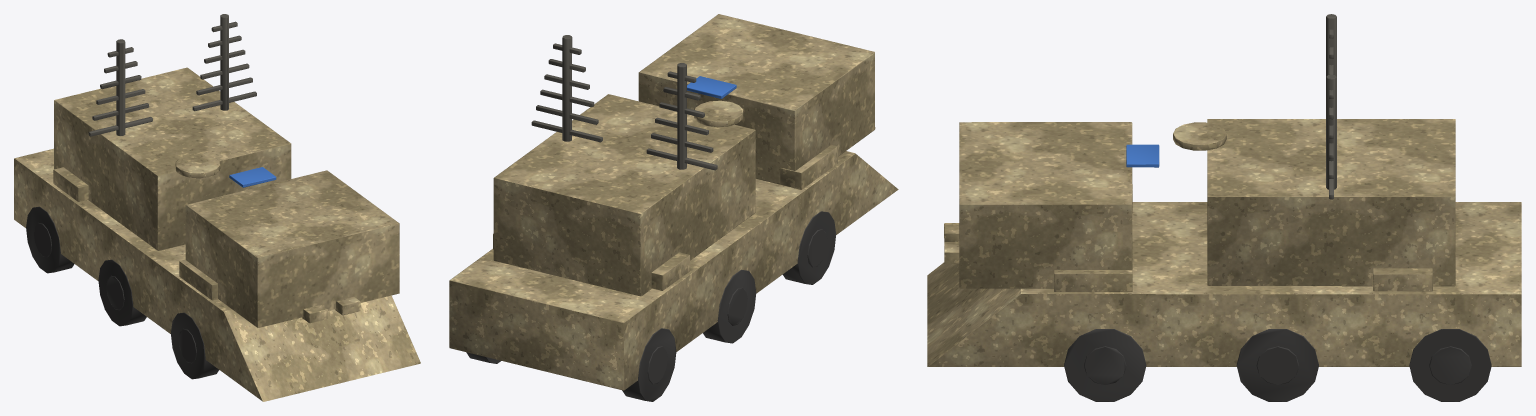
Rendered from ewj_e4_us_jammer_LOD1.glb.
3 views of the same model, side by side, from view 1: azimuth 30°, elevation 25°; view 2: azimuth 150°, elevation 25°; view 3: azimuth 270°, elevation 25° (orthographic). The views are drawn at different scales.
Parts seen in each view (by area): view 1: ewj_e4_us_jammer_LOD1_body, ewj_e4_us_jammer_LOD1_track, ewj_e4_us_jammer_LOD1_deck, ewj_e4_us_jammer_LOD1_team; view 2: ewj_e4_us_jammer_LOD1_body, ewj_e4_us_jammer_LOD1_track, ewj_e4_us_jammer_LOD1_deck, ewj_e4_us_jammer_LOD1_team; view 3: ewj_e4_us_jammer_LOD1_body, ewj_e4_us_jammer_LOD1_track, ewj_e4_us_jammer_LOD1_deck, ewj_e4_us_jammer_LOD1_team.
Part boxes in pixels (x1=…): ewj_e4_us_jammer_LOD1_body: x1=14, y1=67, x2=420, y2=401; ewj_e4_us_jammer_LOD1_track: x1=26, y1=206, x2=218, y2=379; ewj_e4_us_jammer_LOD1_deck: x1=88, y1=14, x2=256, y2=136; ewj_e4_us_jammer_LOD1_team: x1=229, y1=167, x2=276, y2=187; ewj_e4_us_jammer_LOD1_body: x1=449, y1=14, x2=898, y2=390; ewj_e4_us_jammer_LOD1_track: x1=466, y1=211, x2=836, y2=401; ewj_e4_us_jammer_LOD1_deck: x1=531, y1=35, x2=717, y2=170; ewj_e4_us_jammer_LOD1_team: x1=687, y1=76, x2=736, y2=98; ewj_e4_us_jammer_LOD1_body: x1=927, y1=119, x2=1521, y2=366; ewj_e4_us_jammer_LOD1_track: x1=1064, y1=329, x2=1491, y2=401; ewj_e4_us_jammer_LOD1_deck: x1=1326, y1=14, x2=1336, y2=199; ewj_e4_us_jammer_LOD1_team: x1=1126, y1=144, x2=1159, y2=167.
Bounding box in the file's own units: 3.04 × 4.54 × 7.89.
5 materials, 1 textured.
